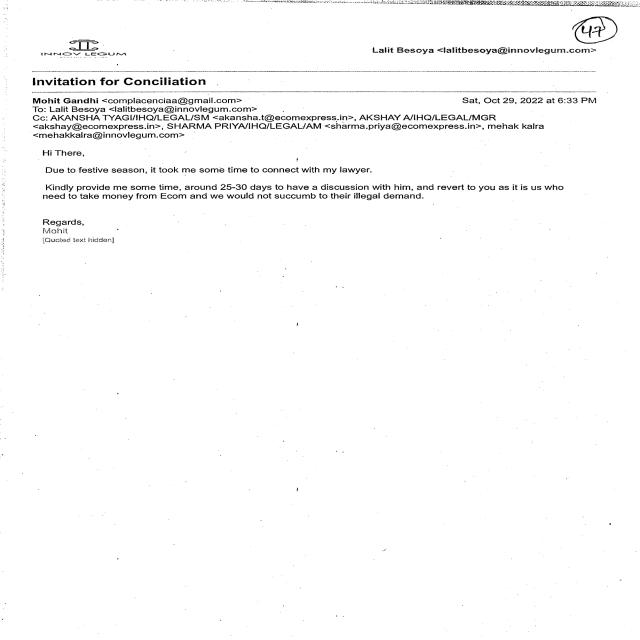page-number: (574, 4, 638, 50)
